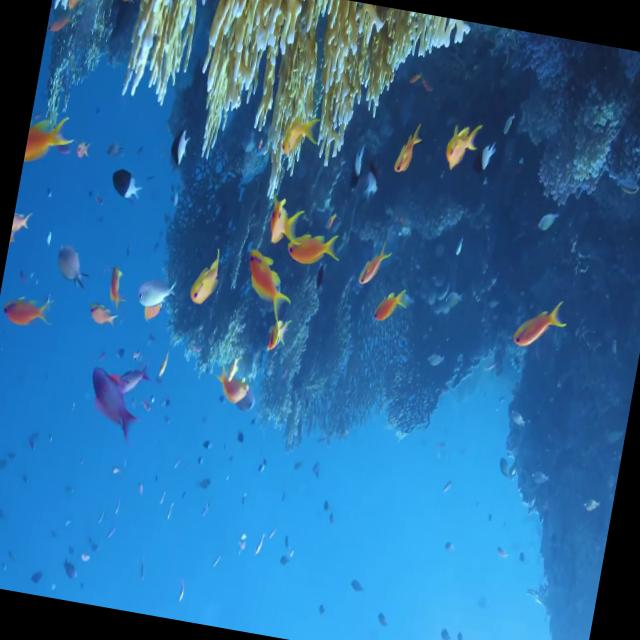fish: (230, 245, 301, 335), (78, 366, 150, 442), (508, 286, 574, 366), (22, 108, 82, 181), (279, 213, 345, 274), (179, 244, 234, 310), (432, 116, 486, 180), (213, 359, 266, 423), (260, 186, 307, 256), (387, 114, 428, 190), (366, 276, 411, 342), (0, 287, 57, 339), (50, 241, 94, 297), (104, 165, 146, 214), (113, 354, 155, 402), (358, 244, 394, 292), (259, 312, 293, 360), (164, 126, 192, 182), (464, 142, 498, 188), (83, 300, 120, 338), (8, 208, 33, 251)
